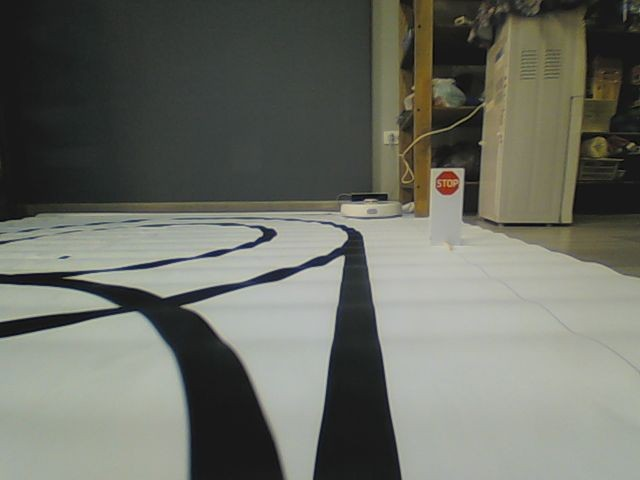Stop: (433, 170, 461, 197)
